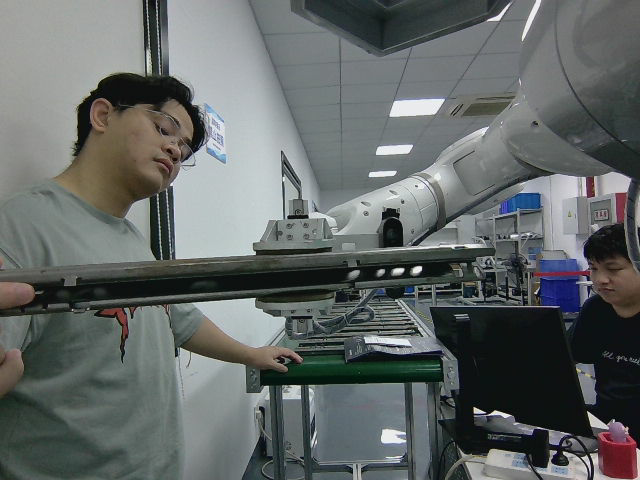left: (37, 241, 496, 315)
